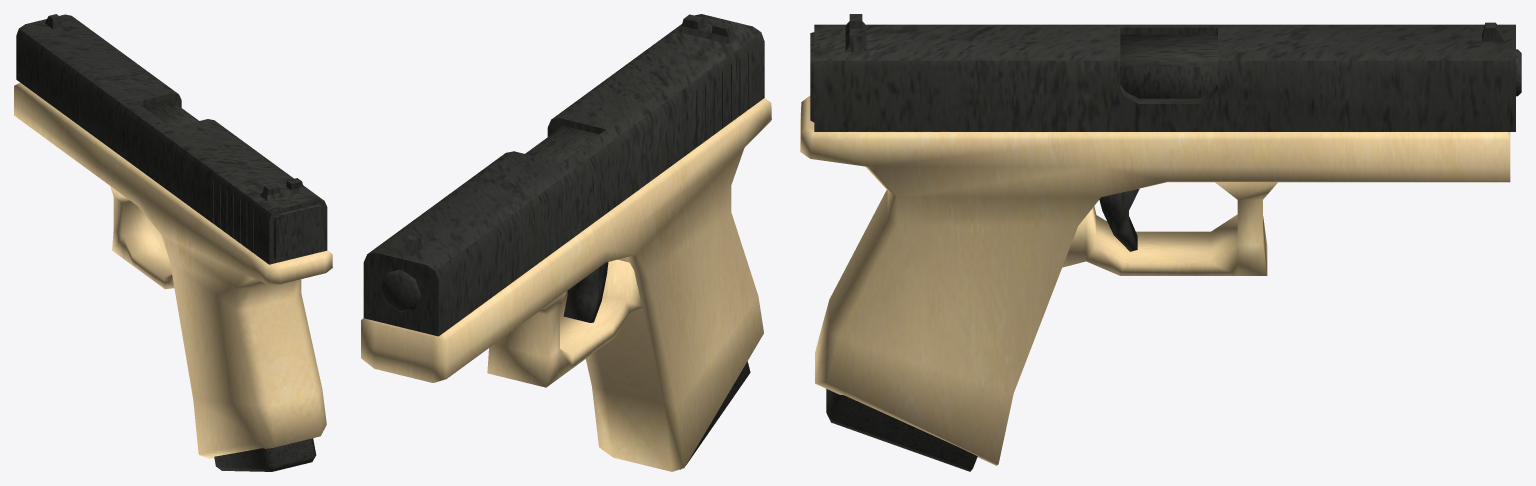
The model's file is Glock-18.fbx.
3 views of the same model, side by side, from view 1: azimuth 30°, elevation 25°; view 2: azimuth 150°, elevation 25°; view 3: azimuth 270°, elevation 25° (orthographic). The views are drawn at different scales.
Visible parts, largest first — view 1: Base, Bolt, Magazine; view 2: Base, Bolt, Barrel, Magazine; view 3: Base, Bolt, Magazine.
Boxes of the visible parts, x1,y1,x2,y2 form: Base: [14, 82, 332, 458]; Bolt: [16, 14, 327, 264]; Magazine: [214, 438, 316, 471]; Base: [361, 98, 771, 471]; Bolt: [363, 14, 764, 336]; Barrel: [380, 269, 421, 312]; Magazine: [680, 361, 750, 469]; Base: [800, 96, 1510, 465]; Bolt: [810, 14, 1515, 131]; Magazine: [826, 389, 977, 471].
Size of the model in its own units: 42.06 by 190 by 286.
Materials: 1 (1 with a texture image).
